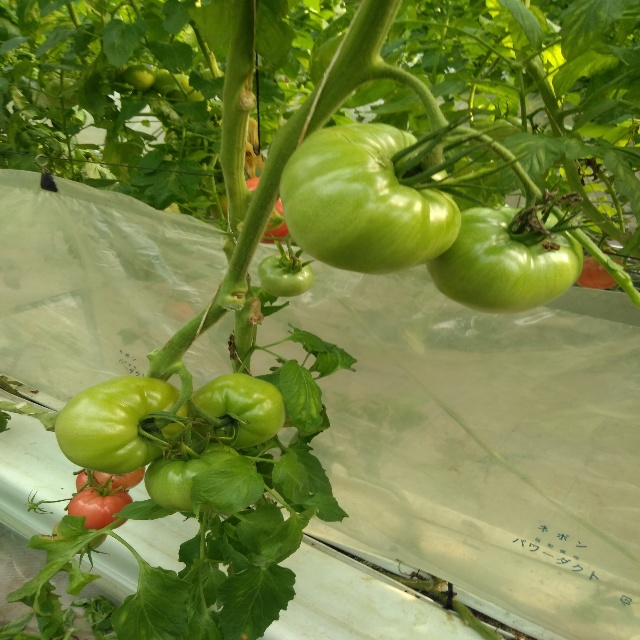b_fully_ripened: (67, 487, 133, 530), (76, 468, 104, 493)
b_green: (279, 122, 461, 275), (426, 206, 585, 316), (55, 376, 189, 475), (186, 372, 286, 449), (144, 440, 245, 513), (258, 253, 314, 297), (45, 78, 80, 108), (123, 64, 157, 90), (152, 69, 178, 94)
b_half_ripened: (576, 252, 625, 290), (94, 466, 146, 491)
